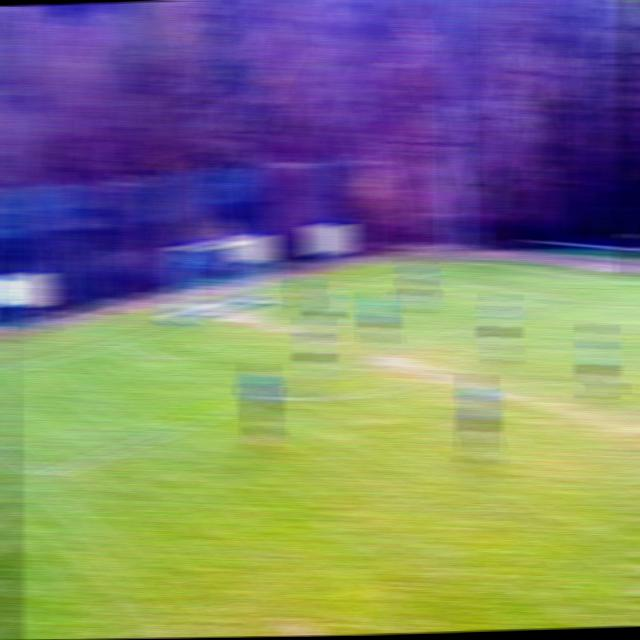bigarea_bottom_inner: (35, 464, 54, 486)
bigarea_top_inner: (554, 288, 574, 311)
bottom_arc_area_intersection: (260, 382, 282, 409)
corner: (462, 256, 480, 270)
smallarea_bottom_inner: (149, 349, 169, 369)
smallarea_bottom_outter: (108, 332, 129, 350)
smallarea_top_inner: (353, 297, 372, 312)
top_arc_area_intersection: (466, 318, 486, 340)
